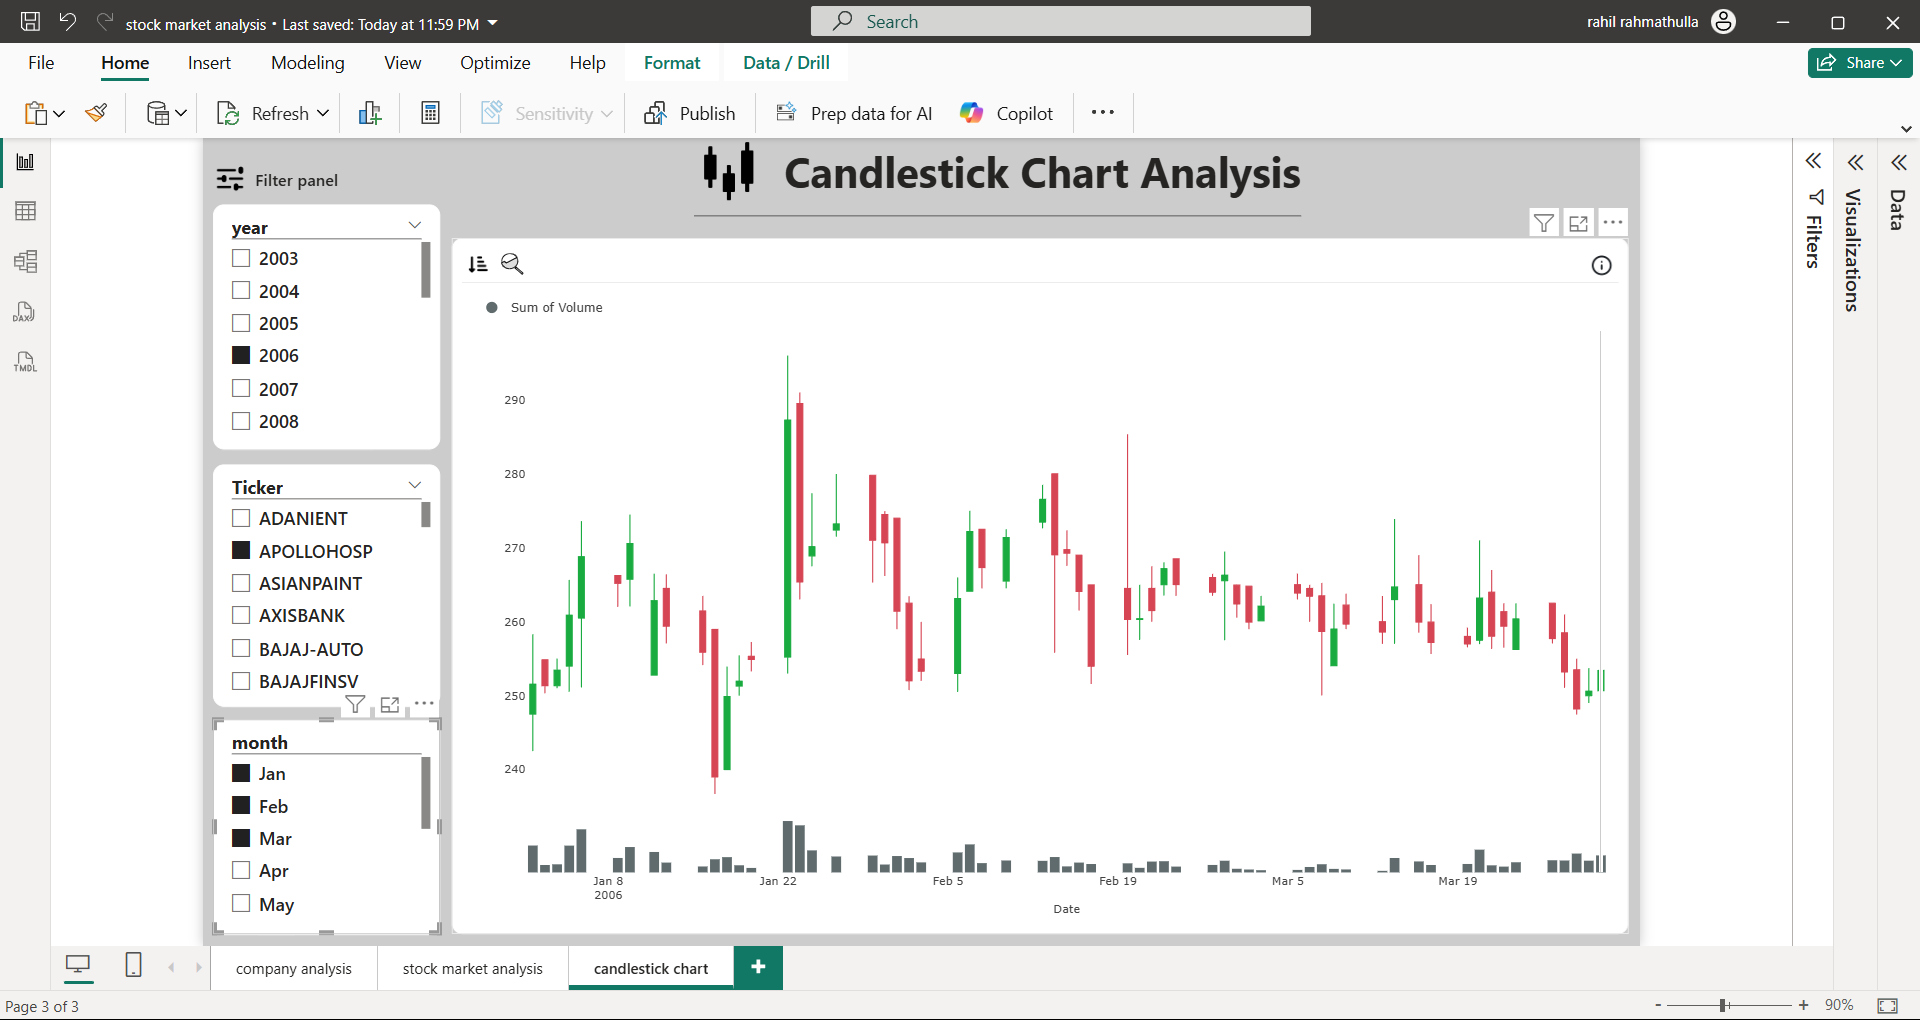

The dashboard page shown, as its layout file describes it:
{"tool":"powerbi","page":{"name":"candlestick chart","canvas":[1280,720],"ordinal":2},"visuals":[{"type":"candlestick95C27C147643B5E840B1D29AC39783F7","fields":{"col_2":["Sum(stock_price.High)"],"col_1":["Sum(stock_price.Open)"],"col_3":["Sum(stock_price.Low)"],"col_4":["Sum(stock_price.Close)"],"col_0":["stock_price.Date"],"col_5":["Sum(stock_price.Volume)"]},"box":[222,89.3,1048.4,620.1],"z":0},{"type":"slicer","fields":{"Values":["stock_price.year"]},"box":[8.4,59.1,202.7,218.4],"z":1000},{"type":"slicer","fields":{"Values":["stock_price.Ticker"]},"box":[8.4,290.8,202.7,216],"z":2000},{"type":"slicer","fields":{"Values":["stock_price.month"]},"box":[8.4,517.6,202.7,191.8],"z":3000},{"type":"textbox","box":[486.2,0,522.4,68.8],"z":4000},{"type":"image","box":[437.9,0,61.5,59.1],"z":5000},{"type":"shape","box":[437.9,21.7,540.5,94.1],"z":6000},{"type":"textbox","box":[38.6,21.7,89.3,42.2],"z":7000},{"type":"image","box":[8.4,22.9,30.2,25.3],"z":8000}]}

Visuals, with their boxes on the page's 1280x720 design canvas (x1, y1, x2, y2). These are canvas units, not pixel positions in the 1920x1020 screenshot, which may show the page scaled, cropped or inside an application window:
candlestick95C27C147643B5E840B1D29AC39783F7 - Sum(stock_price.High) x Sum(stock_price.Open): left=222, top=89, right=1270, bottom=709
slicer - stock_price.year: left=8, top=59, right=211, bottom=278
slicer - stock_price.Ticker: left=8, top=291, right=211, bottom=507
slicer - stock_price.month: left=8, top=518, right=211, bottom=709
textbox: left=486, top=0, right=1009, bottom=69
image: left=438, top=0, right=499, bottom=59
shape: left=438, top=22, right=978, bottom=116
textbox: left=39, top=22, right=128, bottom=64
image: left=8, top=23, right=39, bottom=48
